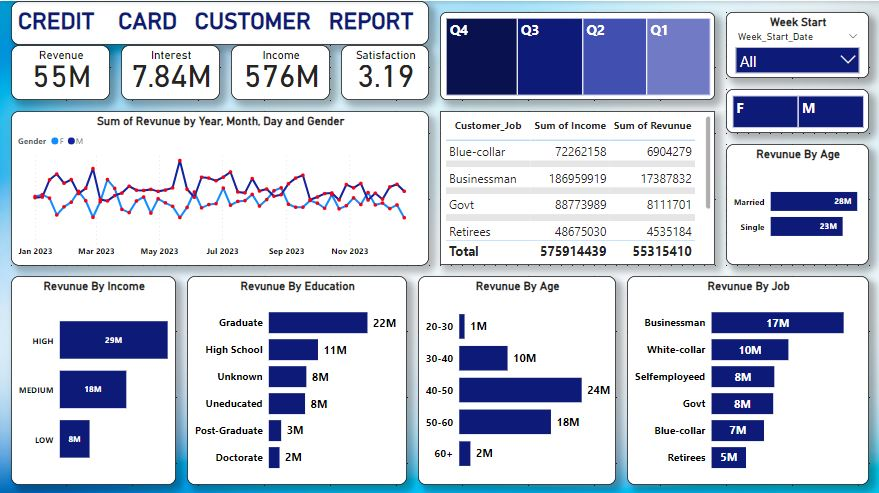

Layout of this report page (visuals, bound fields, positions):
{"tool":"powerbi","page":{"name":"CC Customer","canvas":[1280,720],"ordinal":2},"visuals":[{"type":"textbox","box":[16,0,608,64],"z":0},{"type":"barChart","title":"Revunue By Income","fields":{"Y":["Sum(ccdb credit_card_detail.Revunue)"],"Category":["ccdb customer_detail.Income_Group"]},"box":[16,400,240,304],"z":1000},{"type":"card","title":"Revenue","fields":{"Values":["Sum(ccdb credit_card_detail.Revunue)"]},"box":[16,64,144,80],"z":2000},{"type":"card","title":"Interest","fields":{"Values":["Sum(ccdb credit_card_detail.Interest_Earned)"]},"box":[176,64,144,80],"z":3000},{"type":"card","title":"Income","fields":{"Values":["Sum(ccdb customer_detail.Income)"]},"box":[336,64,144,80],"z":4000},{"type":"treemap","fields":{"Group":["ccdb credit_card_detail.Qtr"],"Values":["Avg(ccdb customer_detail.Client_Num)"]},"box":[640,16,400,128],"z":5000},{"type":"slicer","title":"Week Start","fields":{"Values":["ccdb credit_card_detail.Week_Start_Date"]},"box":[1056,16,208,96],"z":6000},{"type":"treemap","fields":{"Group":["ccdb customer_detail.Gender"],"Values":["Avg(ccdb customer_detail.Client_Num)"]},"box":[1056,128,208,64],"z":7000},{"type":"card","title":"Satisfaction","fields":{"Values":["Avg(ccdb customer_detail.Cust_Satisfaction_Score)"]},"box":[496,64,128,80],"z":8000},{"type":"lineChart","fields":{"Category":["ccdb credit_card_detail.Week_Start_Date.Variation.Date Hierarchy.Year","ccdb credit_card_detail.Week_Start_Date.Variation.Date Hierarchy.Month","ccdb credit_card_detail.Week_Start_Date.Variation.Date Hierarchy.Day"],"Y":["Sum(ccdb credit_card_detail.Revunue)"],"Series":["ccdb customer_detail.Gender"]},"box":[16,160,608,225],"z":9000},{"type":"barChart","title":"Revunue By Education","fields":{"Y":["Sum(ccdb credit_card_detail.Revunue)"],"Category":["ccdb customer_detail.Education_Level"]},"box":[272,400,320,304],"z":10000},{"type":"barChart","title":"Revunue By Age","fields":{"Y":["Sum(ccdb credit_card_detail.Revunue)"],"Category":["ccdb customer_detail.Age_Group"]},"box":[608,400,288,304],"z":11000},{"type":"barChart","title":"Revunue By Job","fields":{"Y":["Sum(ccdb credit_card_detail.Revunue)"],"Category":["ccdb customer_detail.Customer_Job"]},"box":[912,400,352,304],"z":12000},{"type":"barChart","title":"Revunue By Age","fields":{"Y":["Sum(ccdb credit_card_detail.Revunue)"],"Category":["ccdb customer_detail.Marital_Status"]},"box":[1056,208,208,176],"z":13000},{"type":"tableEx","fields":{"Values":["ccdb customer_detail.Customer_Job","Sum(ccdb customer_detail.Income)","Sum(ccdb credit_card_detail.Revunue)"]},"box":[640,160,400,224],"z":14000}]}

Visuals, with their boxes in screenshot pixels (x1, y1, x2, y2), scaled from the page's 1280x720 canvas onto the 879x493 screenshot:
textbox: detection(11, 0, 429, 44)
"Revunue By Income" barChart: detection(11, 274, 176, 482)
"Revenue" card: detection(11, 44, 110, 99)
"Interest" card: detection(121, 44, 220, 99)
"Income" card: detection(231, 44, 330, 99)
treemap - ccdb credit_card_detail.Qtr x Avg(ccdb customer_detail.Client_Num): detection(440, 11, 714, 99)
"Week Start" slicer: detection(725, 11, 868, 77)
treemap - ccdb customer_detail.Gender x Avg(ccdb customer_detail.Client_Num): detection(725, 88, 868, 131)
"Satisfaction" card: detection(341, 44, 429, 99)
lineChart - ccdb credit_card_detail.Week_Start_Date.Variation.Date Hierarchy.Year x ccdb credit_card_detail.Week_Start_Date.Variation.Date Hierarchy.Month: detection(11, 110, 429, 264)
"Revunue By Education" barChart: detection(187, 274, 407, 482)
"Revunue By Age" barChart: detection(418, 274, 615, 482)
"Revunue By Job" barChart: detection(626, 274, 868, 482)
"Revunue By Age" barChart: detection(725, 142, 868, 263)
tableEx - ccdb customer_detail.Customer_Job x Sum(ccdb customer_detail.Income): detection(440, 110, 714, 263)
